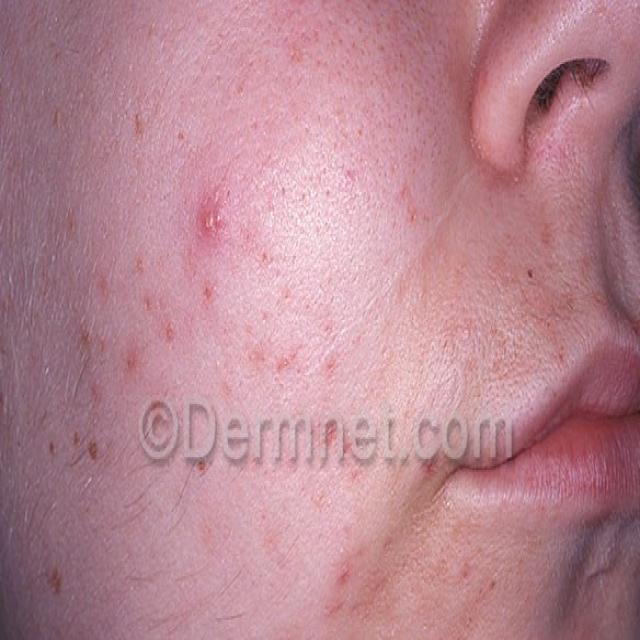Acne: (1, 139, 425, 640), (505, 216, 604, 332)
